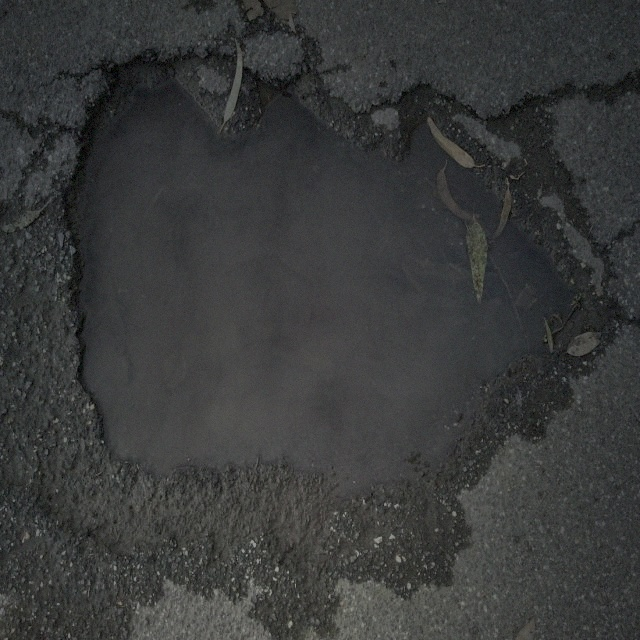pothole: (60, 33, 595, 506)
